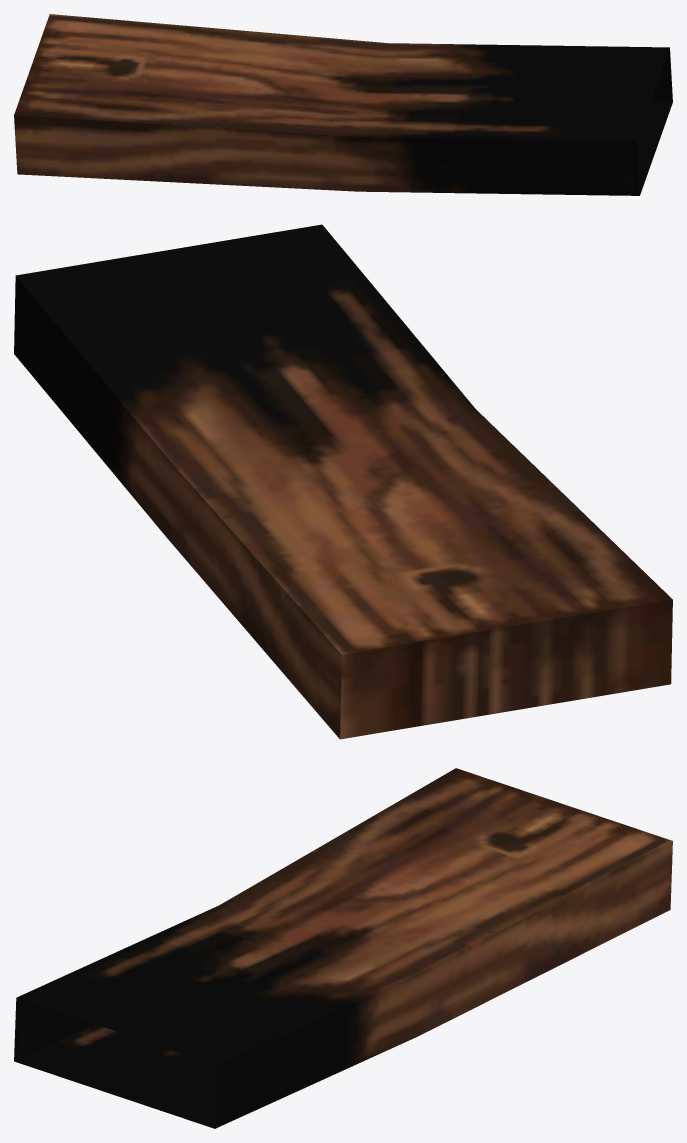
File: OVERHILL_A_01_BROKEN_BOARD_11.fbx
3 renders of one model, top to bottom at view 1: azimuth 30°, elevation 25°; view 2: azimuth 150°, elevation 25°; view 3: azimuth 270°, elevation 25°, orthographic. The views are drawn at different scales.
Visible parts, largest first — view 1: OVERHILL_A_01_BROKEN_BOARD_11; view 2: OVERHILL_A_01_BROKEN_BOARD_11; view 3: OVERHILL_A_01_BROKEN_BOARD_11.
Boxes of the visible parts, x1,y1,x2,y2 form: OVERHILL_A_01_BROKEN_BOARD_11: (14,14,672,195); OVERHILL_A_01_BROKEN_BOARD_11: (14,224,672,739); OVERHILL_A_01_BROKEN_BOARD_11: (14,768,672,1128).
Bounding box in the file's own units: 9294 × 1100 × 8368.
Materials: 1 (1 with a texture image).
